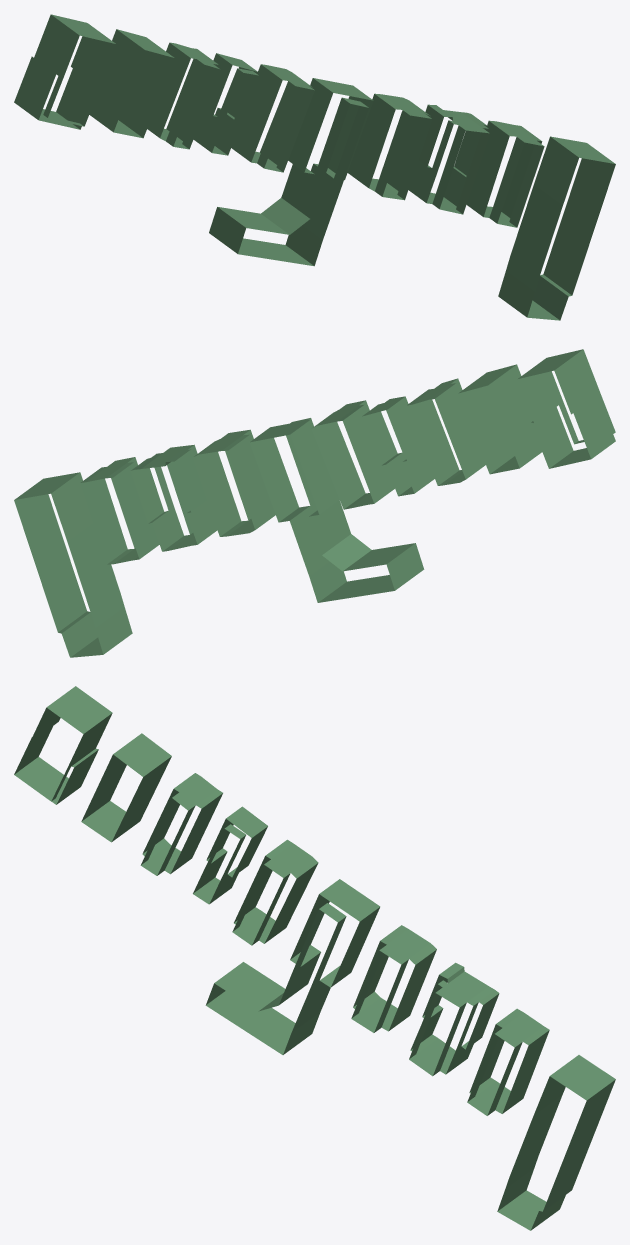
File: Wall_Hini_4.0_Slope_2.0.obj
The picture shows the model from 3 angles, top to bottom: view 1: azimuth 30°, elevation 25°; view 2: azimuth 150°, elevation 25°; view 3: azimuth 330°, elevation 25°; orthographic projection.
Parts seen in each view (by area): view 1: 1, 5, 10, 9, 3, 7, 4, 2, 8, 6; view 2: 5, 1, 10, 9, 4, 3, 7, 8, 2, 6; view 3: 5, 1, 10, 4, 3, 9, 2, 7, 8, 6.
Boxes of the visible parts, x1,y1,x2,y2 form: 1: [498, 136, 615, 320]; 5: [209, 78, 373, 266]; 10: [14, 14, 116, 129]; 9: [89, 29, 174, 138]; 3: [347, 93, 431, 200]; 7: [231, 64, 314, 172]; 4: [408, 104, 489, 214]; 2: [466, 120, 544, 227]; 8: [147, 42, 220, 149]; 6: [193, 53, 258, 155]; 5: [249, 418, 424, 602]; 1: [14, 472, 132, 657]; 10: [517, 349, 615, 468]; 9: [458, 364, 542, 474]; 4: [130, 444, 217, 551]; 3: [193, 429, 275, 536]; 7: [311, 400, 394, 509]; 8: [406, 378, 485, 485]; 2: [80, 457, 159, 564]; 6: [362, 396, 434, 496]; 5: [205, 879, 380, 1054]; 1: [497, 1055, 615, 1230]; 10: [14, 686, 112, 804]; 4: [409, 962, 499, 1076]; 3: [351, 925, 436, 1032]; 9: [81, 733, 171, 842]; 2: [467, 1008, 549, 1115]; 7: [232, 839, 318, 945]; 8: [140, 773, 222, 875]; 6: [193, 806, 267, 904].
Size of the model in its own units: 136 by 91.5 by 12.
